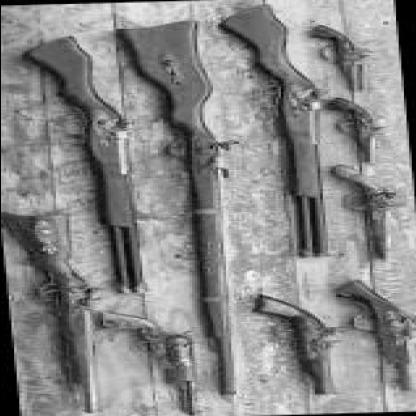rifle: (154, 21, 254, 399), (238, 6, 340, 258)
